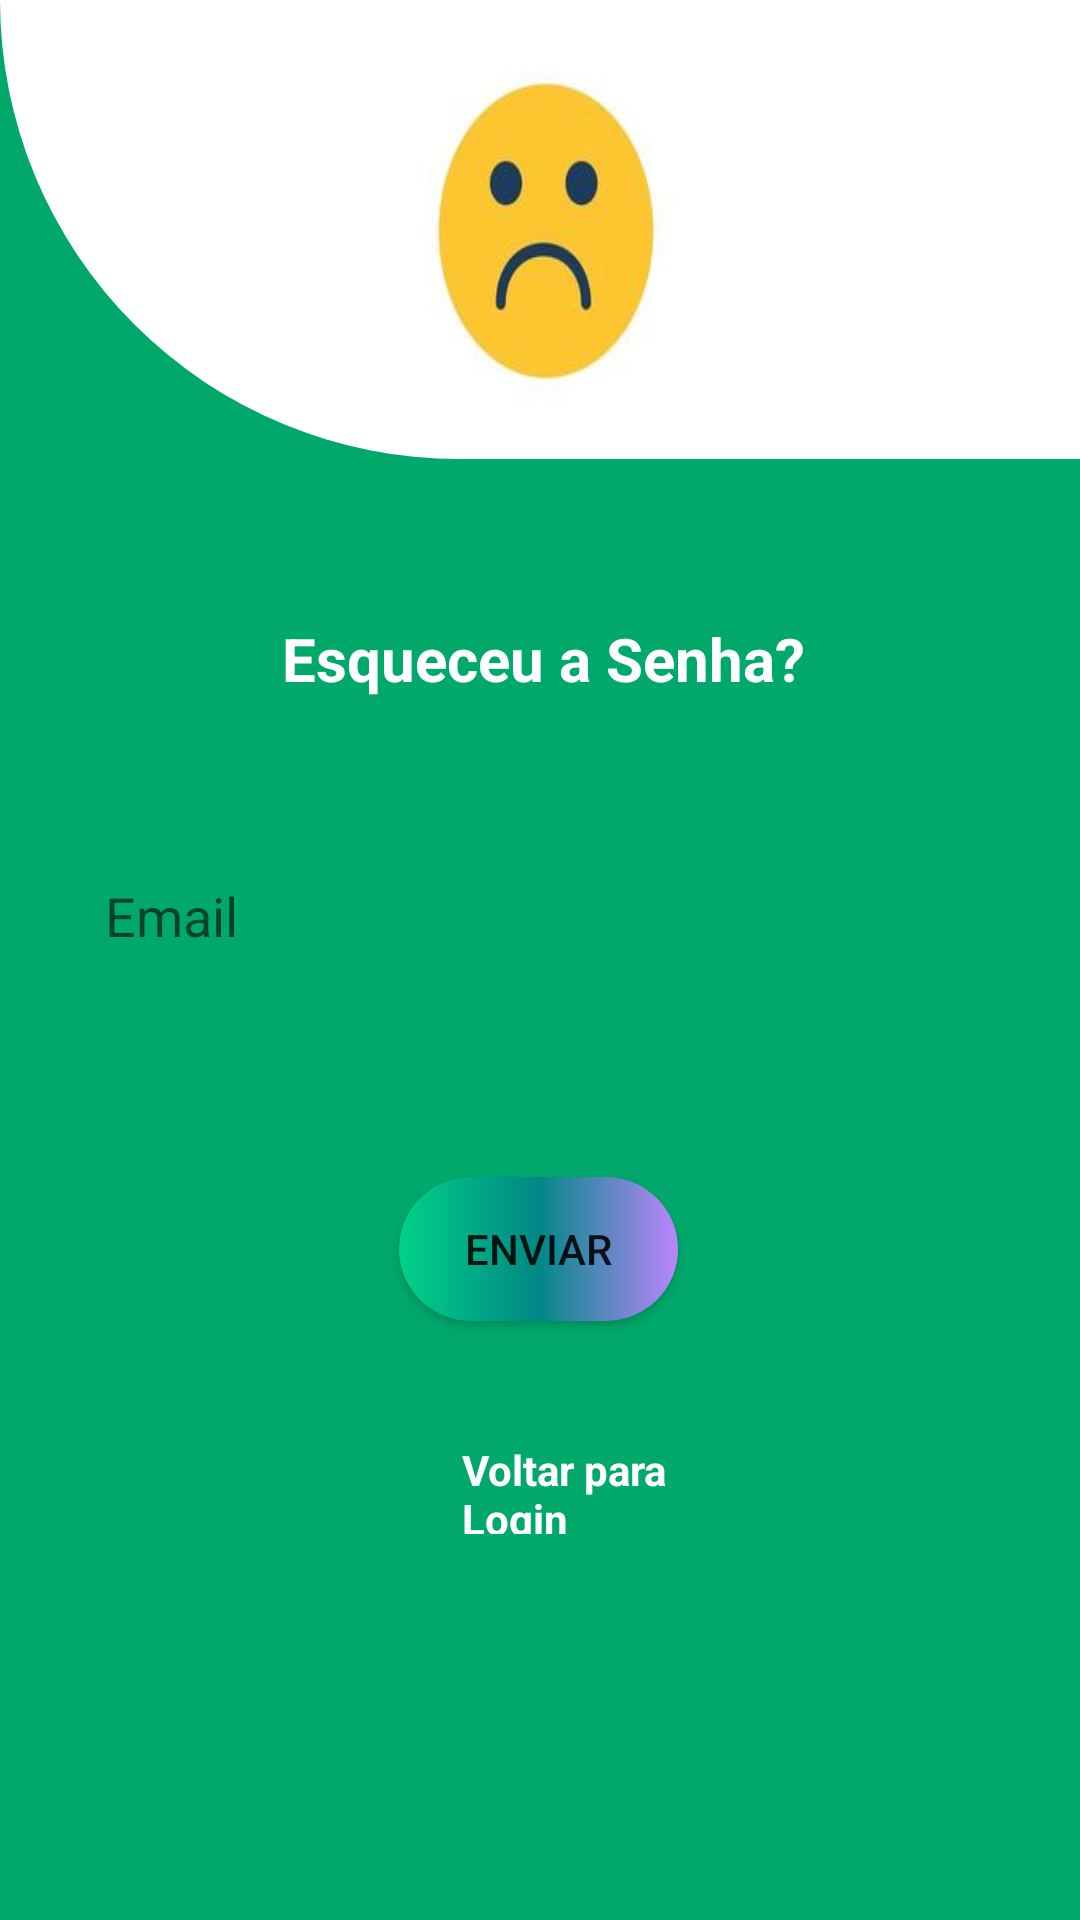

Where to tap for icons on this 1080×1920 app screen, as point (x, y):
rosto Triste: point (546, 231)
